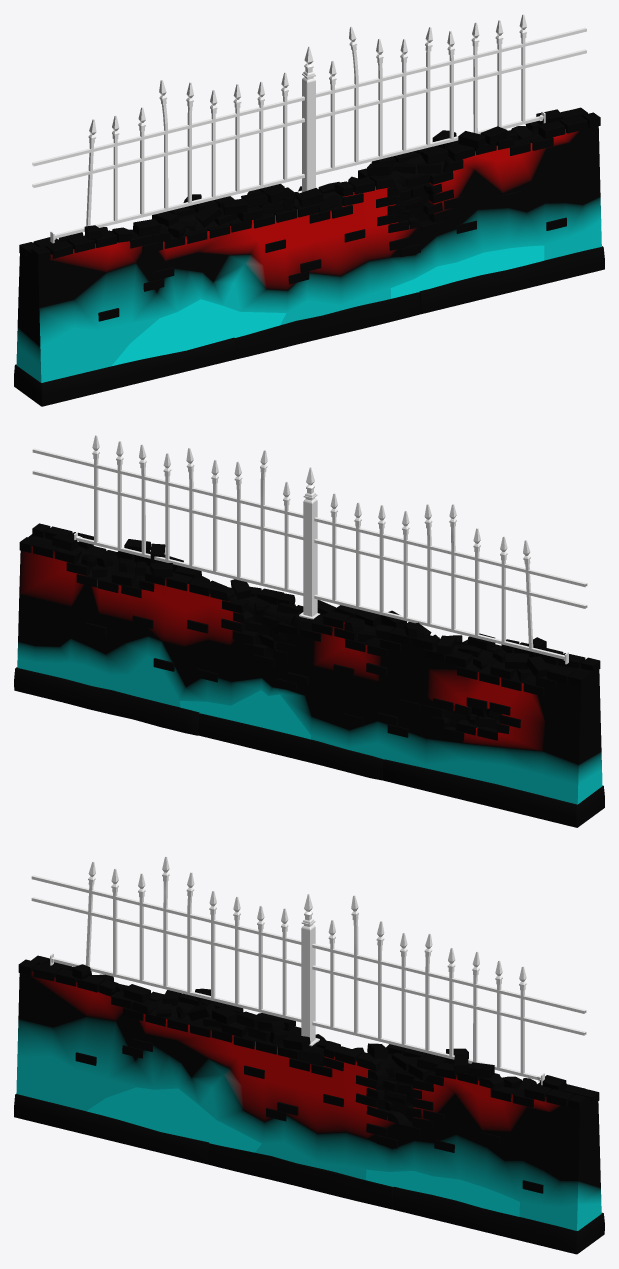
Rendered from Com_Fence1.fbx.
The picture shows the model from 3 angles, top to bottom: view 1: azimuth 30°, elevation 25°; view 2: azimuth 150°, elevation 25°; view 3: azimuth 330°, elevation 25°; orthographic projection.
Visible parts, largest first — view 1: SM_COM_Fence01.mo; view 2: SM_COM_Fence01.mo; view 3: SM_COM_Fence01.mo.
Boxes of the visible parts, x1,y1,x2,y2 form: SM_COM_Fence01.mo: (14, 14, 604, 406); SM_COM_Fence01.mo: (14, 435, 604, 827); SM_COM_Fence01.mo: (14, 856, 604, 1254).
Size of the model in its own units: 821 by 403 by 75.48.
